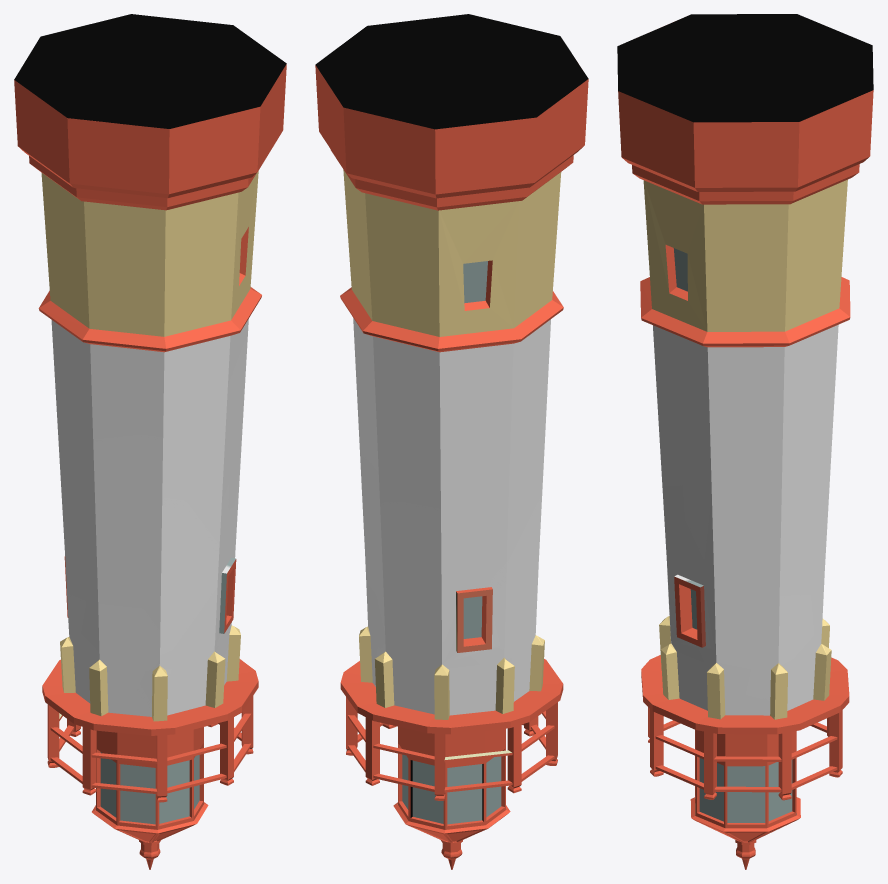
File: KM_Phare.FBX
3 views of the same model, side by side, from view 1: azimuth 30°, elevation 25°; view 2: azimuth 150°, elevation 25°; view 3: azimuth 270°, elevation 25° (orthographic).
Parts seen in each view (by area): view 1: Phare; view 2: Phare; view 3: Phare.
Boxes of the visible parts, <box> form: Phare: <box>14,14,286,869</box>; Phare: <box>315,14,588,869</box>; Phare: <box>617,14,873,869</box>.
Size of the model in its own units: 1.28 by 4.41 by 1.28.
